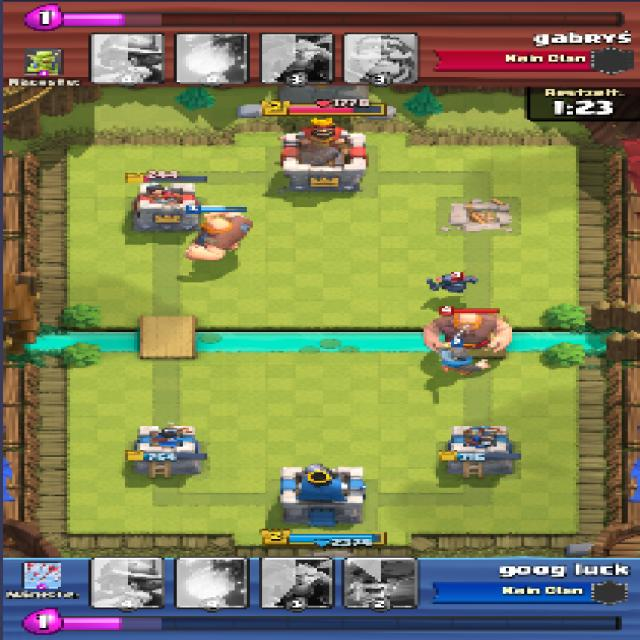Enemy-Giant: (421, 311, 513, 352)
Enemy-MiniPEKKA: (429, 272, 479, 294)
Player-Giant: (187, 206, 254, 262)
Player-Knight: (441, 343, 492, 375)
